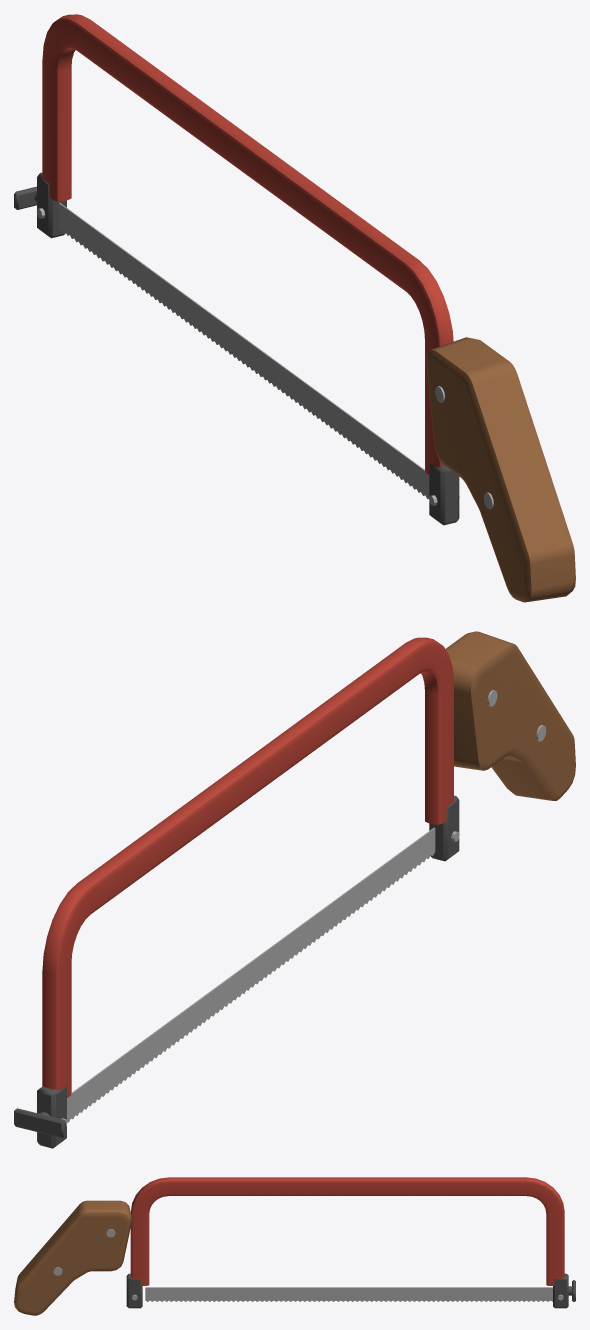
Rendered from hacksaw.glb.
3 renders of one model, top to bottom at view 1: azimuth 30°, elevation 25°; view 2: azimuth 150°, elevation 25°; view 3: azimuth 270°, elevation 25°, orthographic. The views are drawn at different scales.
Visible parts, largest first — view 1: body; view 2: body; view 3: body.
Boxes of the visible parts, <box> form: body: <box>14,14,575,602</box>; body: <box>14,631,575,1148</box>; body: <box>14,1177,575,1315</box>.
Size of the model in its own units: 0.0256 by 0.111 by 0.4248.
